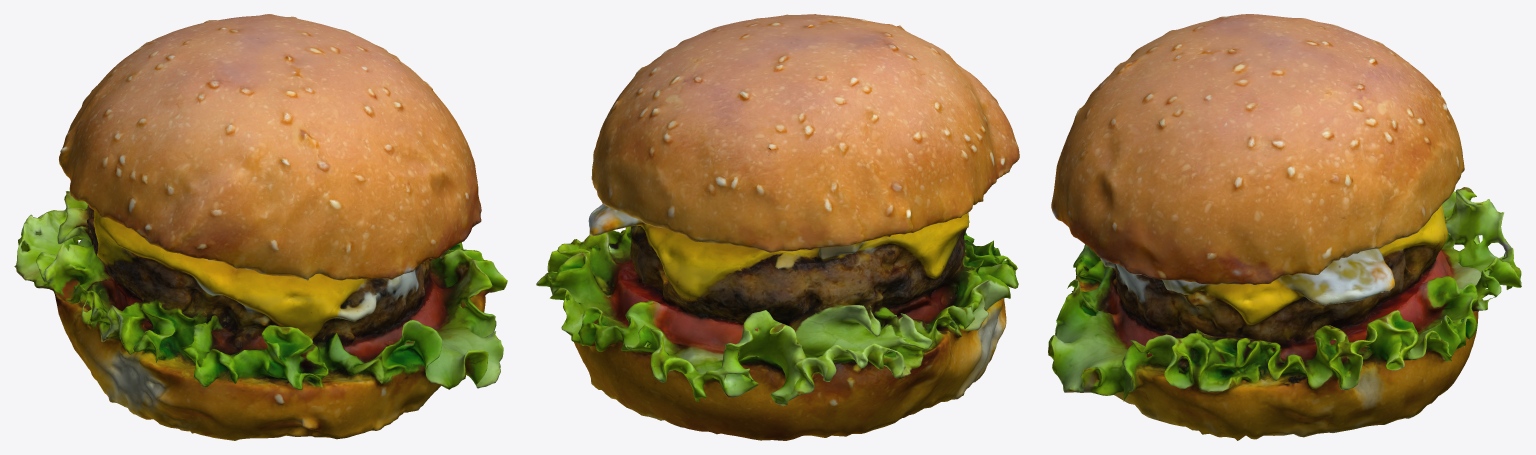
Rendered from scaled_burger.glb.
3 views of the same model, side by side, from view 1: azimuth 30°, elevation 25°; view 2: azimuth 150°, elevation 25°; view 3: azimuth 270°, elevation 25° (orthographic). The views are drawn at different scales.
Parts seen in each view (by area): view 1: Mesh_0_Part_0.002; view 2: Mesh_0_Part_0.002; view 3: Mesh_0_Part_0.002.
Boxes of the visible parts, x1,y1,x2,y2 form: Mesh_0_Part_0.002: [14, 14, 507, 440]; Mesh_0_Part_0.002: [536, 14, 1019, 440]; Mesh_0_Part_0.002: [1048, 14, 1521, 440].
Bounding box in the file's own units: 0.0871 × 0.0703 × 0.0965.
1 material, 1 textured.
